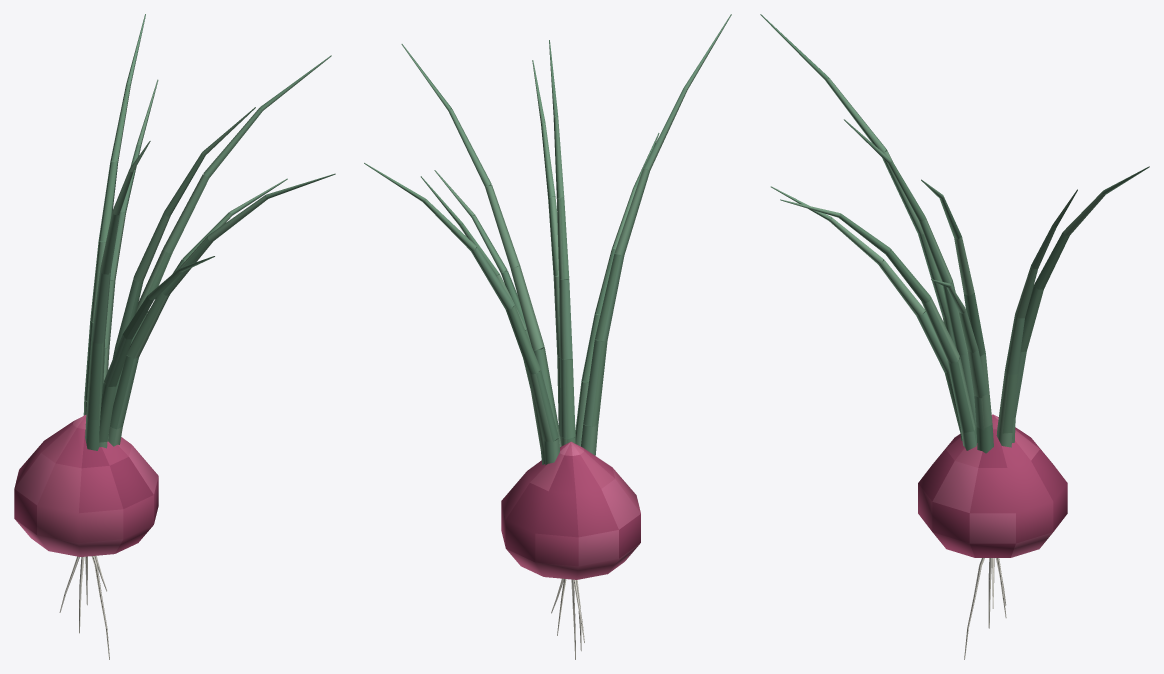
The model's file is oignon_rouge_bulbaison.glb.
3 renders of one model, left to right at view 1: azimuth 30°, elevation 25°; view 2: azimuth 150°, elevation 25°; view 3: azimuth 270°, elevation 25°, orthographic. The views are drawn at different scales.
Visible parts, largest first — view 1: Oignon_Feuilles, Oignon_Bulbe, Oignon_Racines; view 2: Oignon_Feuilles, Oignon_Bulbe, Oignon_Racines; view 3: Oignon_Feuilles, Oignon_Bulbe, Oignon_Racines.
Boxes of the visible parts, x1,y1,x2,y2 form: Oignon_Feuilles: (83,14,335,450); Oignon_Bulbe: (14,415,158,556); Oignon_Racines: (59,555,109,659); Oignon_Feuilles: (364,14,731,465); Oignon_Bulbe: (501,441,640,579); Oignon_Racines: (551,578,584,659); Oignon_Feuilles: (760,14,1149,453); Oignon_Bulbe: (918,414,1067,557); Oignon_Racines: (964,558,1006,659).
Bounding box in the file's own units: 0.2274 × 0.487 × 0.2791.
